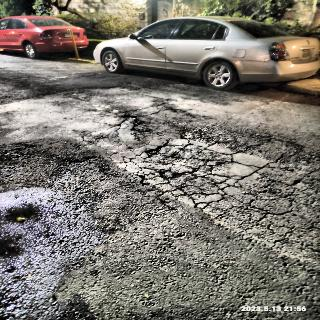alligator-crack: (115, 130, 320, 252), (75, 100, 184, 152)
